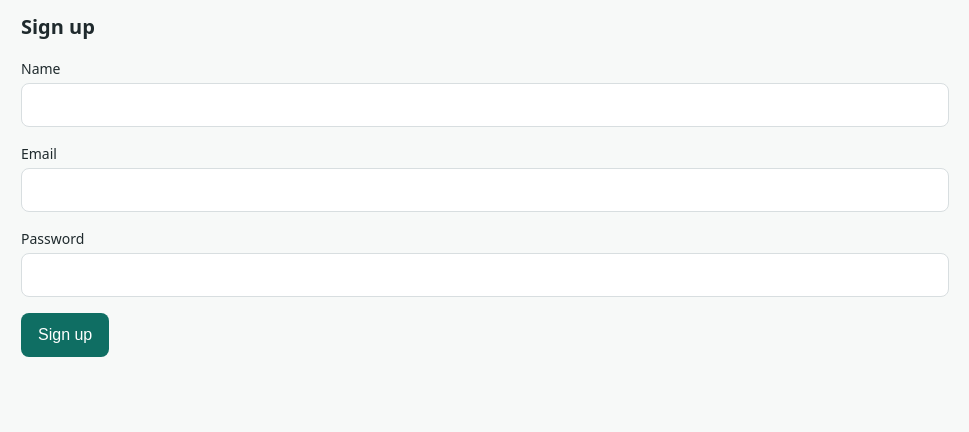
Scenario: SignUpPage › shows the server error when the email is already registered
Type "Ada Shopper" into the field labelled "Name". click: (485, 105)
box: [21, 83, 949, 127]
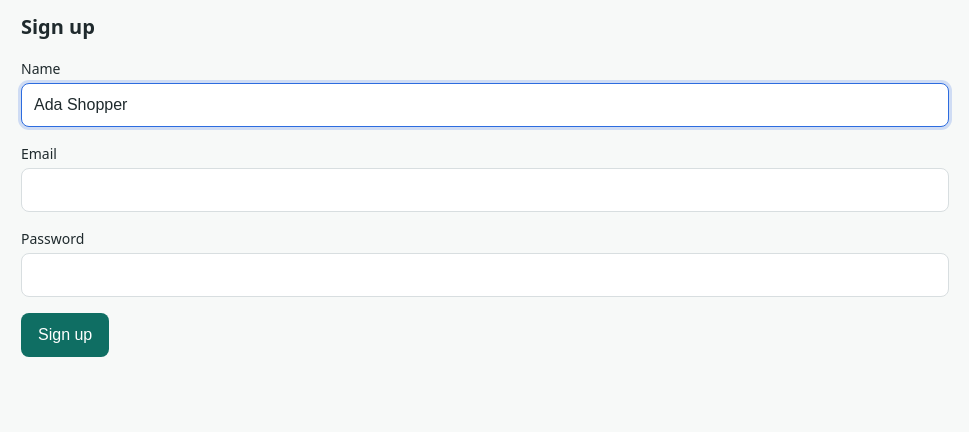
Type "ada@example.com" into the field labelled "Email". click: (485, 190)
box: [21, 168, 949, 212]
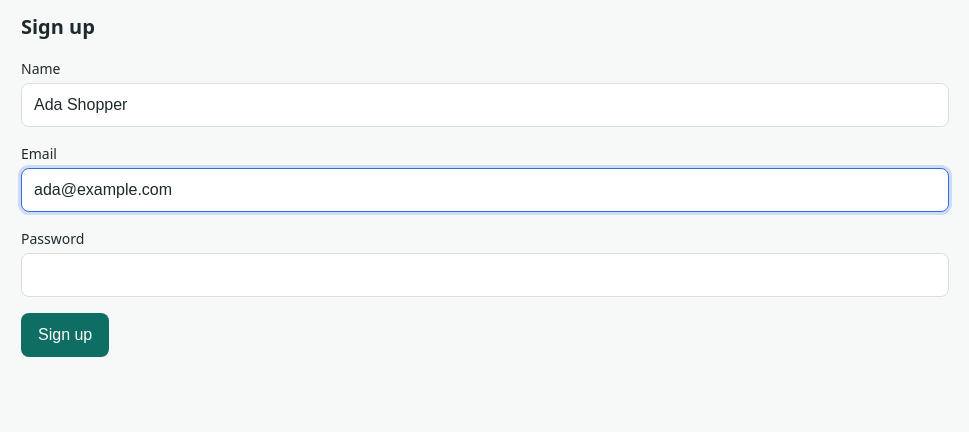
Type "s3cret-password!" into the password field labelled "Password". click: (485, 275)
box: [21, 253, 949, 297]
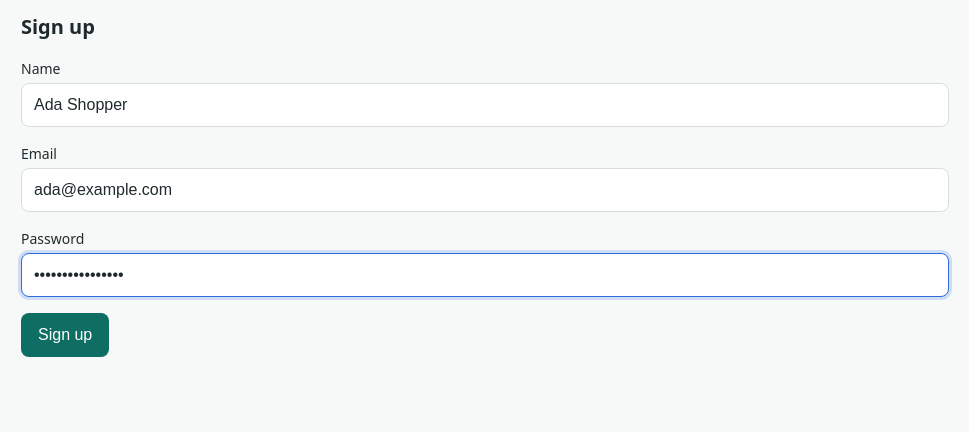
Click the button "Sign up". click: (65, 335)
box: [21, 313, 109, 357]
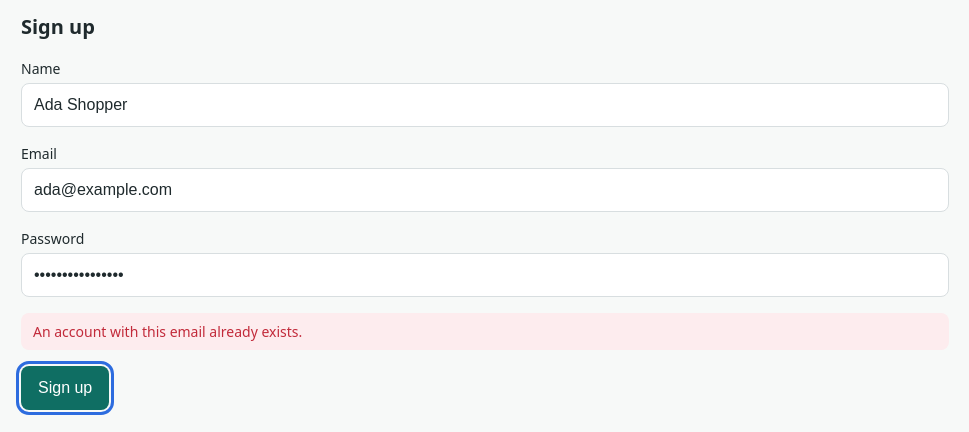
Result: the message reads "An account with this email already exists." at [33, 322, 302, 341]
